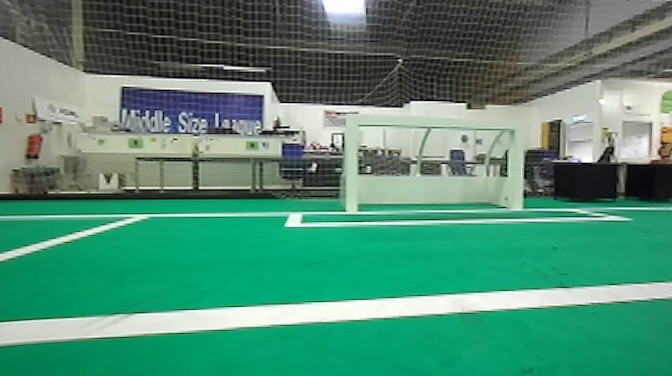goalpost: (504, 116, 527, 212), (342, 114, 361, 214)
